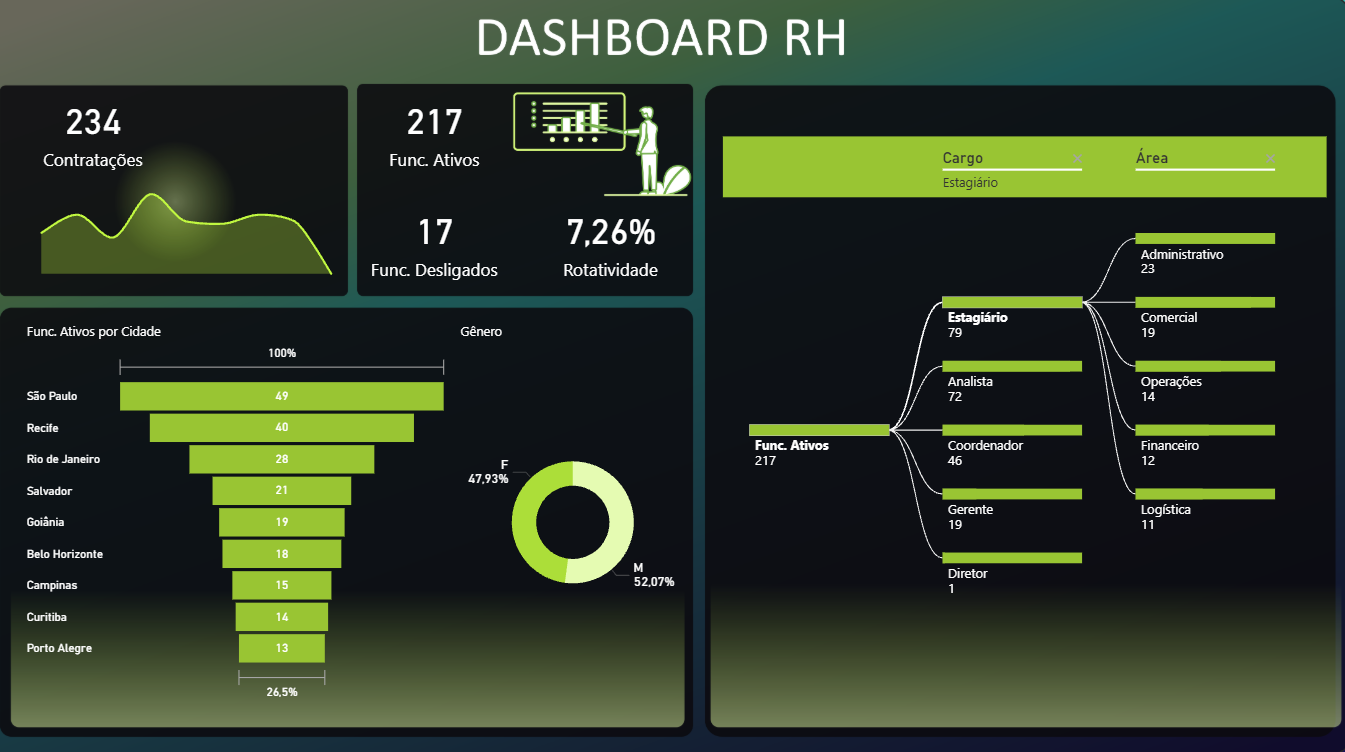

This screenshot's page, from the dashboard's own definition file:
{"tool":"powerbi","page":{"name":"Página 1","canvas":[1280,720],"ordinal":0},"visuals":[{"type":"card","fields":{"Values":["BaseFuncionarios.Contratações"]},"box":[22.7,95,168.7,83.6],"z":0},{"type":"PBI_CV_25997FEB_F466_44FA_B562_AC4063283C4C","fields":{"axis":["BaseFuncionarios.Data de Contratacao.Variation.Hierarquia de datas.Ano"],"measure":["BaseFuncionarios.Contratações"]},"box":[39.7,178.6,310.4,102],"z":1000},{"type":"card","fields":{"Values":["BaseFuncionarios.Func. Ativos"]},"box":[350.1,95,150.2,83.6],"z":2000},{"type":"card","fields":{"Values":["BaseFuncionarios.Func. Desligados"]},"box":[350.1,197,150.2,83.6],"z":3000},{"type":"card","fields":{"Values":["BaseFuncionarios.Rotatividade"]},"box":[514.5,197,150.2,83.6],"z":4000},{"type":"funnel","fields":{"Category":["BaseFuncionarios.Cidade"],"Y":["BaseFuncionarios.Func. Ativos"]},"box":[39.7,314.6,403.9,357.2],"z":5000},{"type":"donutChart","title":"Gênero","fields":{"Y":["BaseFuncionarios.Func. Ativos"],"Category":["BaseFuncionarios.Genero"]},"box":[443.6,314.6,219.7,357.2],"z":6000},{"type":"decompositionTreeVisual","fields":{"ExplainBy":["BaseFuncionarios.Cargo","BaseFuncionarios.Área"],"Analyze":["BaseFuncionarios.Func. Ativos"]},"box":[688.9,136.3,573.1,535.7],"z":7000}]}

Visuals, with their boxes in screenshot pixels (x1, y1, x2, y2), scaled from the page's 1280x720 canvas onto the 1345x752 screenshot:
card - BaseFuncionarios.Contratações: [24, 99, 201, 187]
PBI_CV_25997FEB_F466_44FA_B562_AC4063283C4C - BaseFuncionarios.Data de Contratacao.Variation.Hierarquia de datas.Ano x BaseFuncionarios.Contratações: [42, 187, 368, 293]
card - BaseFuncionarios.Func. Ativos: [368, 99, 526, 187]
card - BaseFuncionarios.Func. Desligados: [368, 206, 526, 293]
card - BaseFuncionarios.Rotatividade: [541, 206, 698, 293]
funnel - BaseFuncionarios.Cidade x BaseFuncionarios.Func. Ativos: [42, 329, 466, 702]
"Gênero" donutChart: [466, 329, 697, 702]
decompositionTreeVisual - BaseFuncionarios.Cargo x BaseFuncionarios.Área: [724, 142, 1326, 702]
